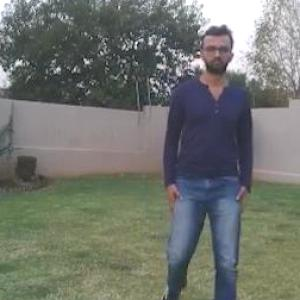follow: (176, 45, 252, 299)
